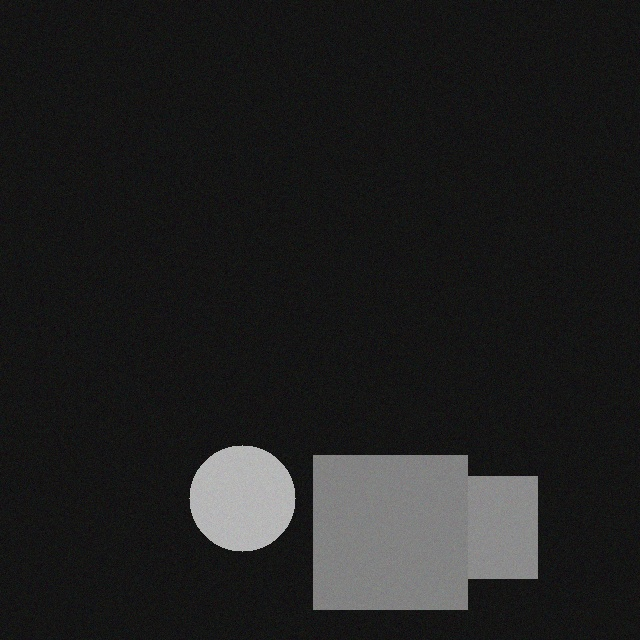circle: (190, 442, 296, 548)
square: (314, 452, 468, 606), (436, 473, 538, 575)
